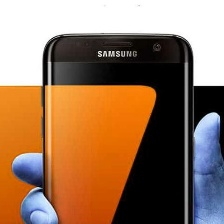phone: (38, 28, 197, 223)
